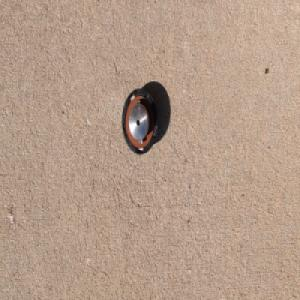FuelCap: (120, 85, 160, 157)
